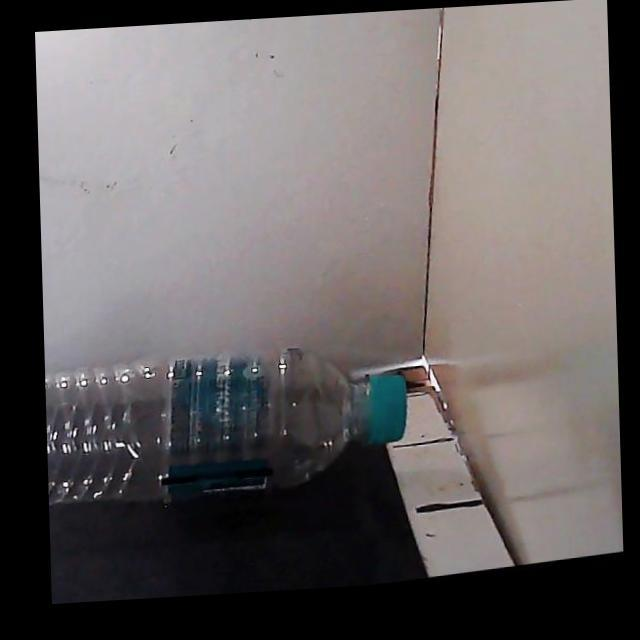plastico: (45, 348, 407, 505)
